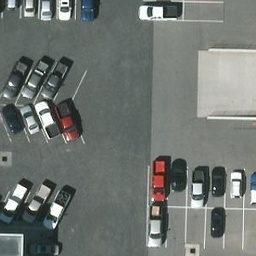car: (43, 190, 72, 229), (23, 184, 52, 223), (1, 182, 29, 221), (35, 102, 61, 141), (57, 103, 83, 142), (21, 60, 47, 99), (43, 61, 69, 100), (41, 59, 67, 98), (1, 61, 26, 100), (147, 205, 163, 248), (151, 156, 167, 199), (209, 162, 227, 197), (5, 104, 24, 136), (21, 105, 40, 137), (191, 168, 205, 206), (138, 7, 182, 19), (27, 241, 61, 256), (209, 209, 225, 239), (81, 1, 101, 22), (230, 170, 243, 202), (171, 167, 185, 193), (56, 1, 73, 21), (38, 1, 55, 21), (24, 1, 36, 16)
